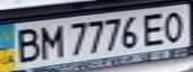6: (118, 13, 145, 51)
7: (63, 20, 87, 56), (84, 17, 106, 54), (103, 16, 124, 52)
B: (6, 25, 42, 64)
E: (139, 10, 172, 47)
M: (36, 22, 63, 60)
O: (157, 7, 190, 43)
